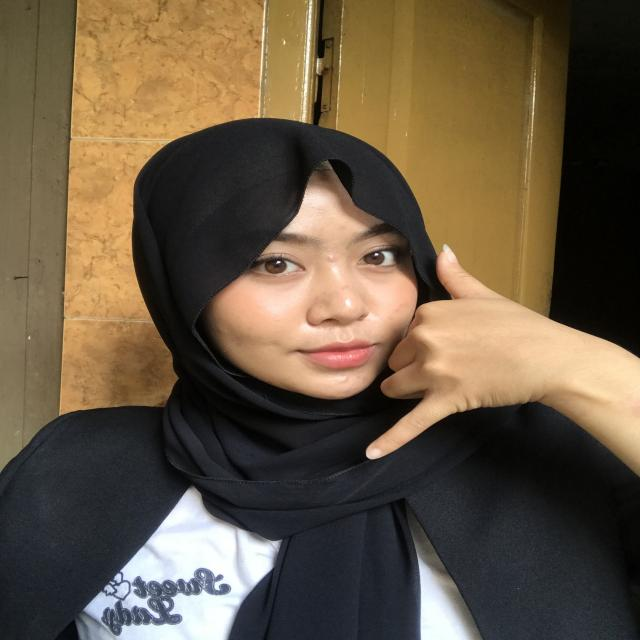telpon: (353, 234, 568, 485)
